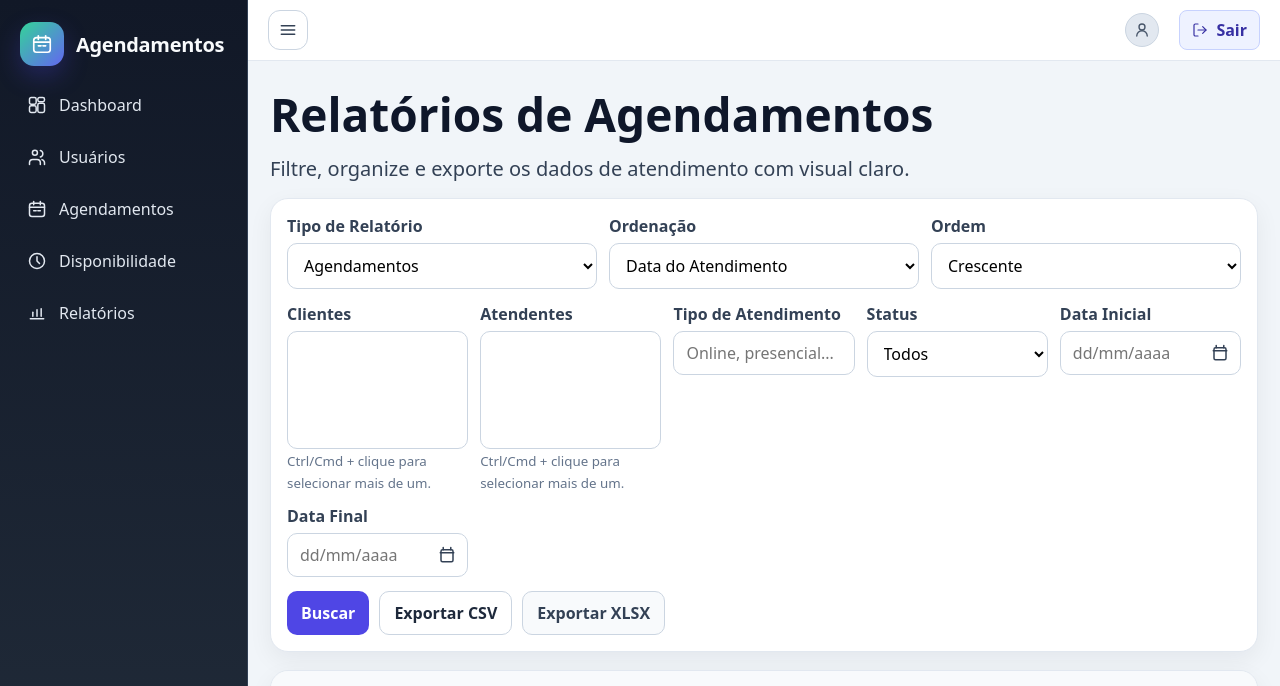
it: Relatorios - RQF4.1 › exibe estatísticas por atendente ao selecionar tipo correto
Select "Estatísticas por Atendente" in the dropdown labelled "Tipo de Relatório" at (442, 266), box x1=287 y1=243 x2=597 y2=289
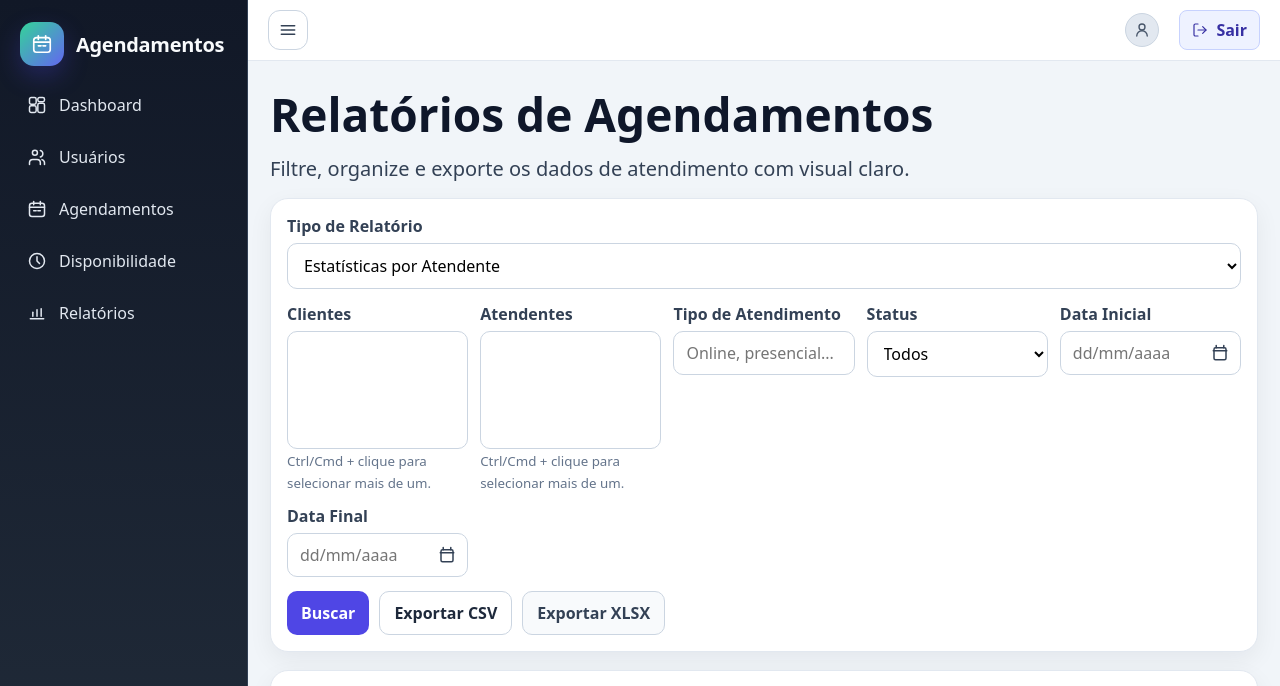
Click the button "Buscar" at (328, 613), box x1=287 y1=591 x2=369 y2=635
(page scrolled)
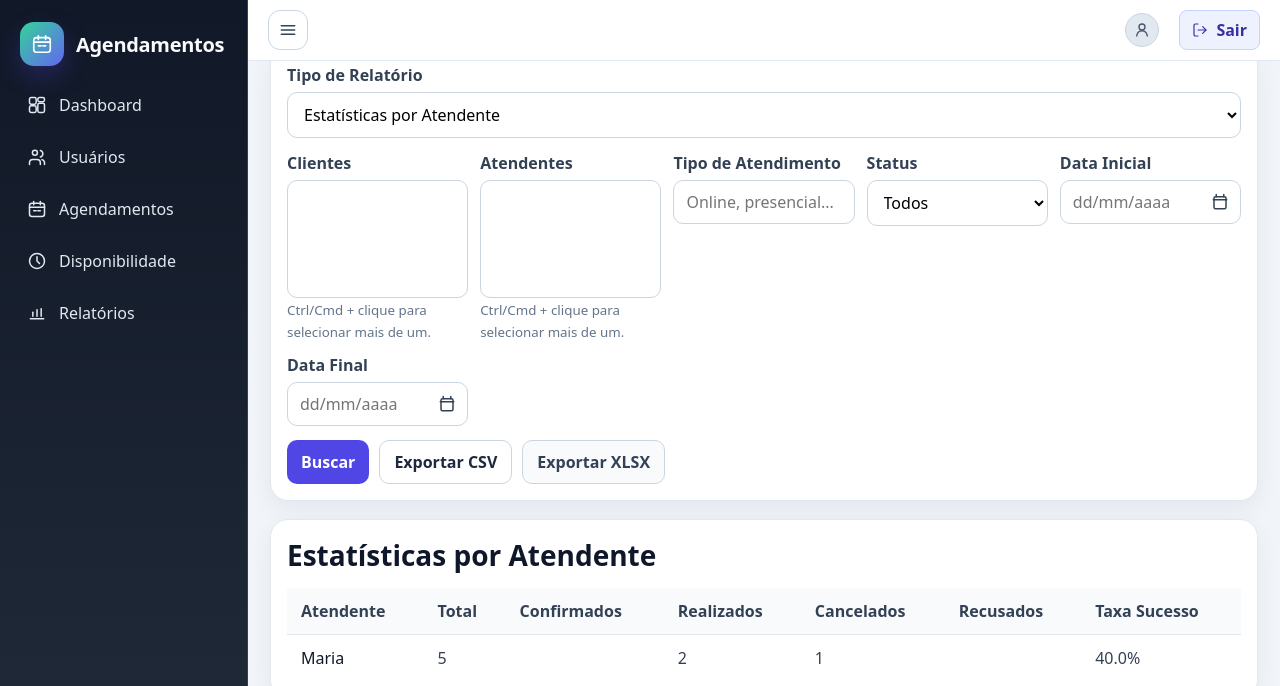
Check: the text "Maria" is shown, box x1=287 y1=634 x2=424 y2=681
